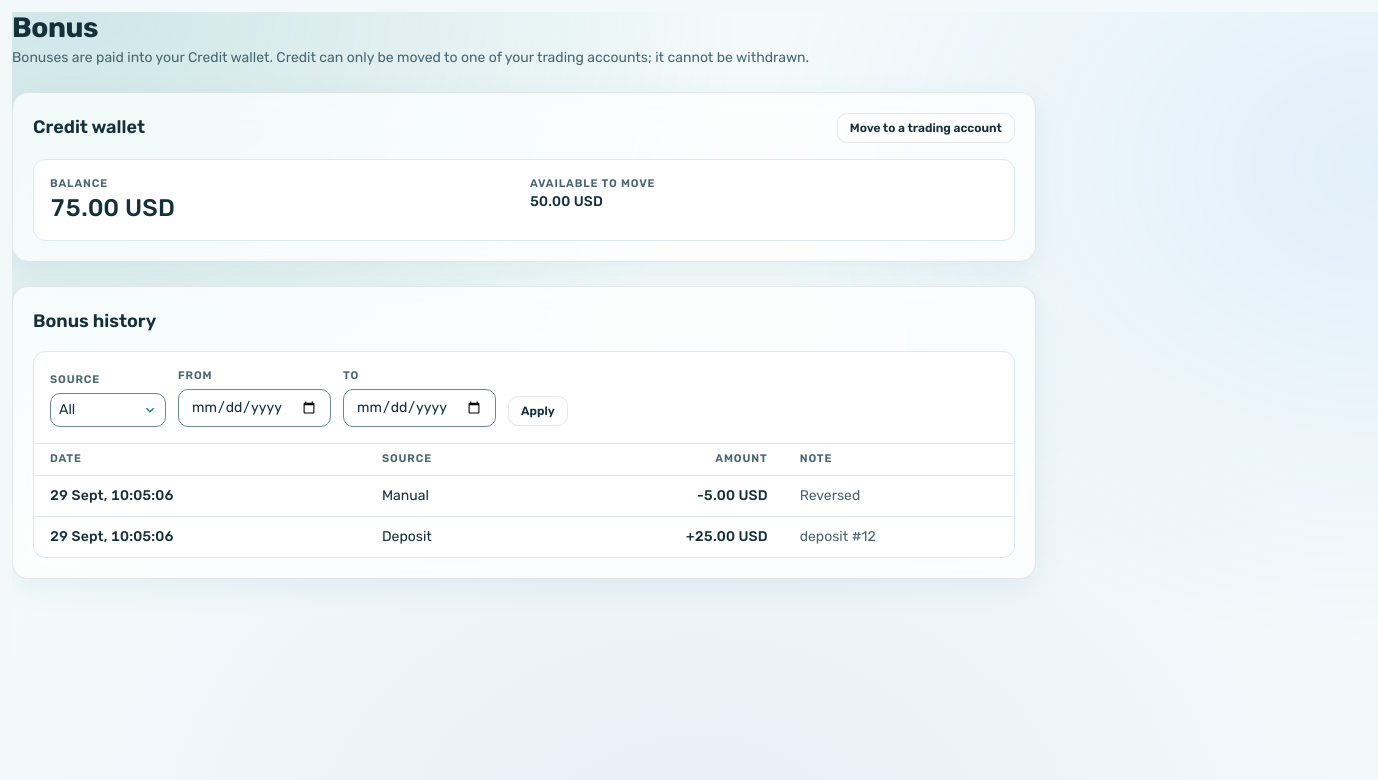
Scenario: shows the Credit wallet and the history, filtered by source and dates
Expected: the heading "Bonus" is shown, [12,11,98,44]
Expected: the text "75.00 USD" is shown, [50,194,175,222]
Select "Deposit" in the dropdown labelled "Source" at (108, 409), box [50,392,166,426]
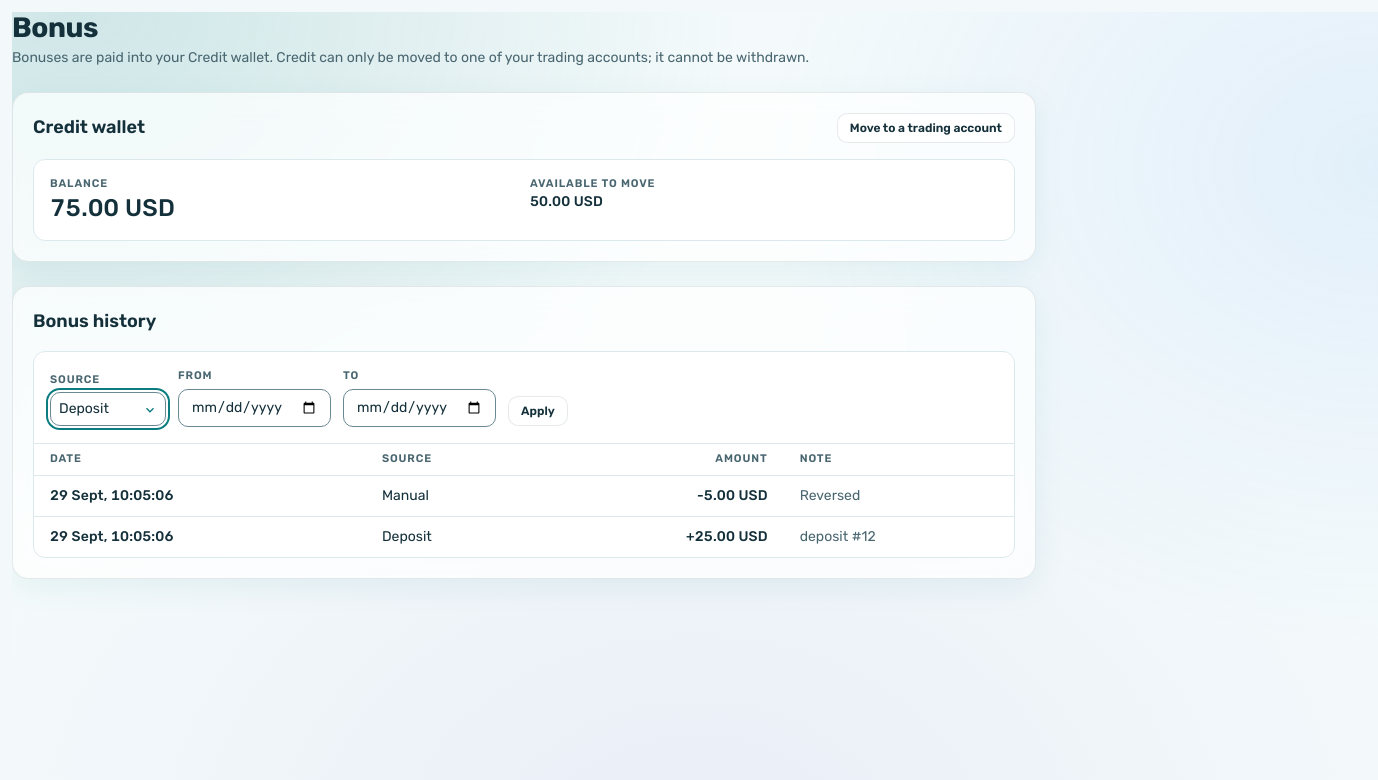
Type "2026-09-01" into the date field named "From date".
click(254, 407); type("2026-09-01")  # box [178,388,331,426]
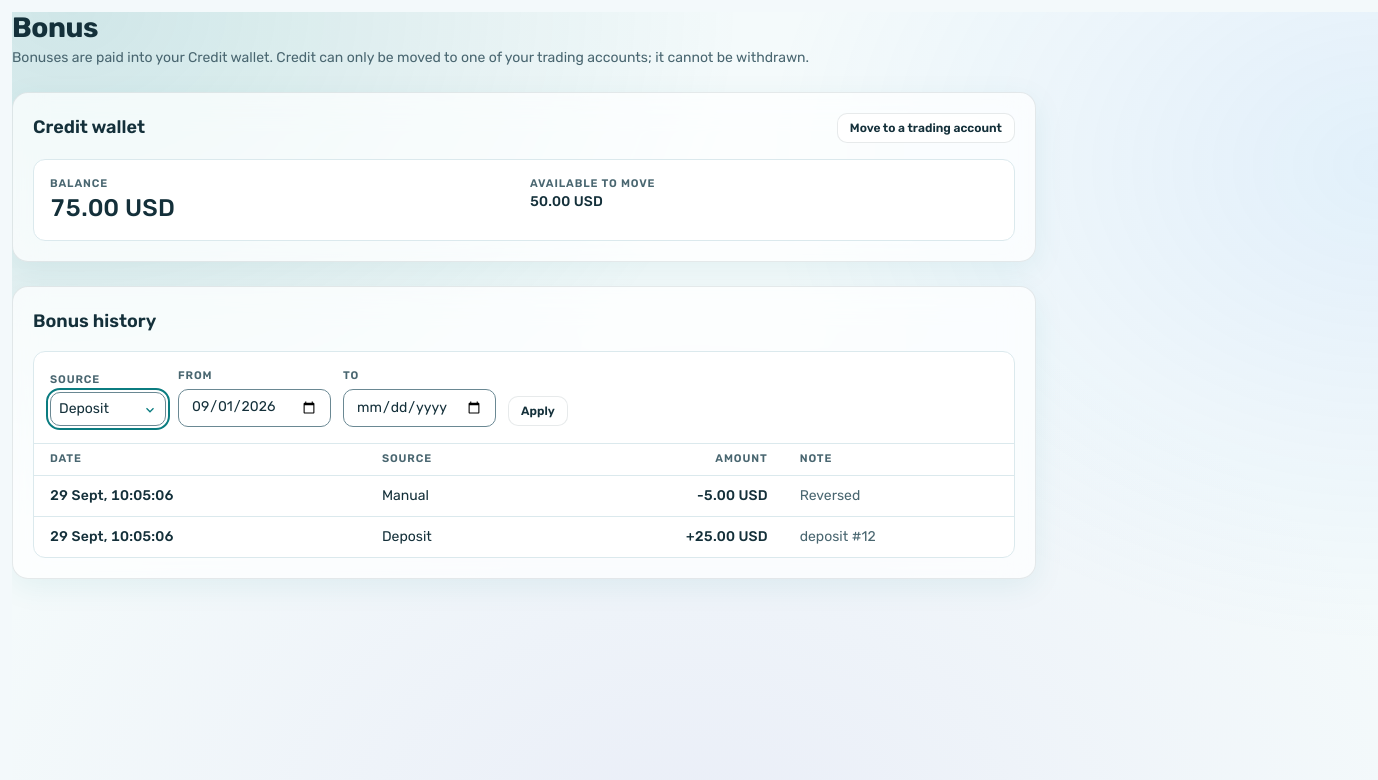
Click the button "Apply".
click(538, 411)  # box [508,396,568,426]
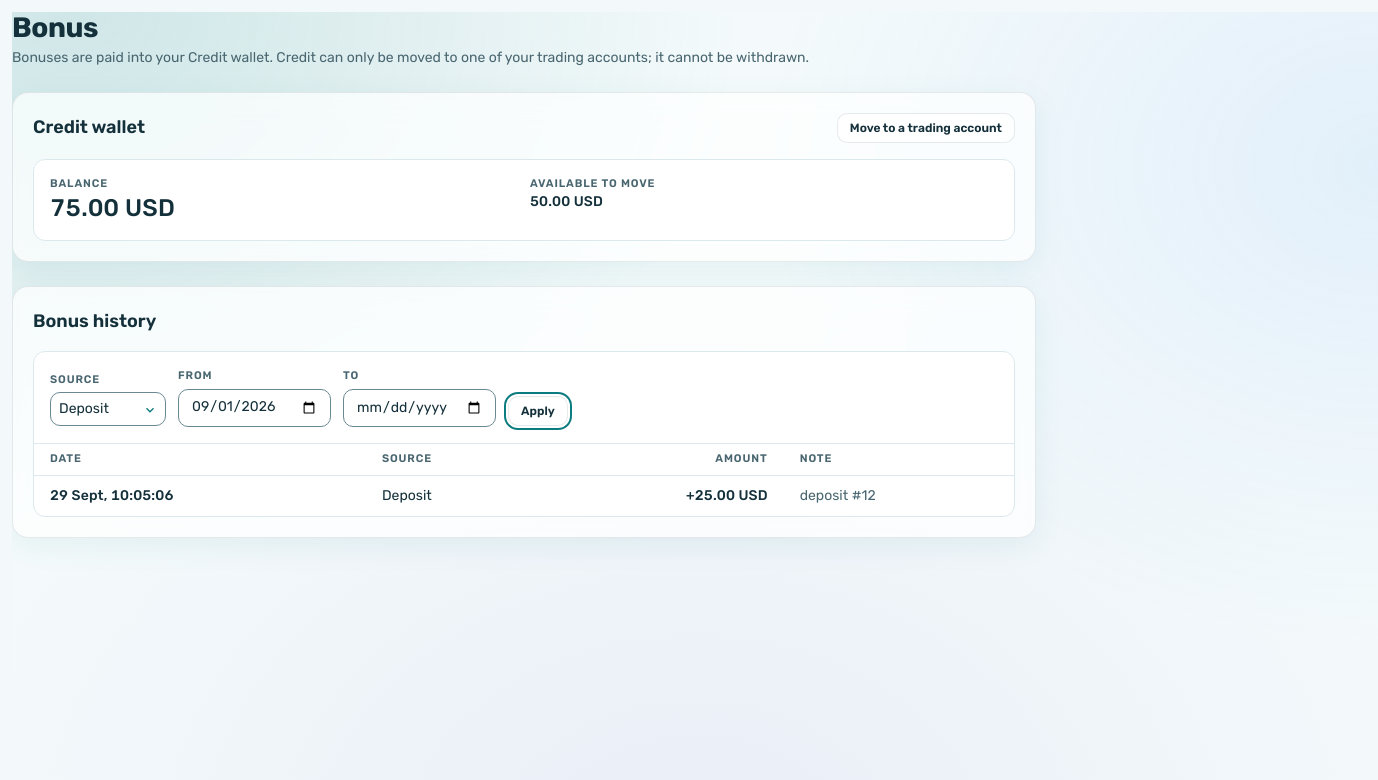
Result: the text "Reversed" is gone
